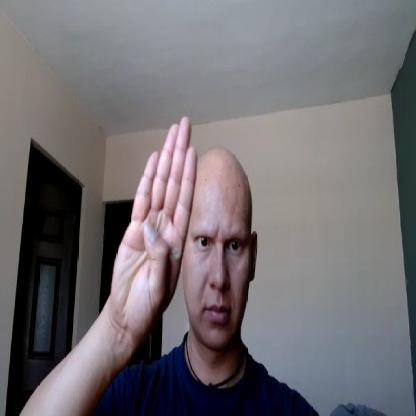B: (113, 114, 197, 330)
